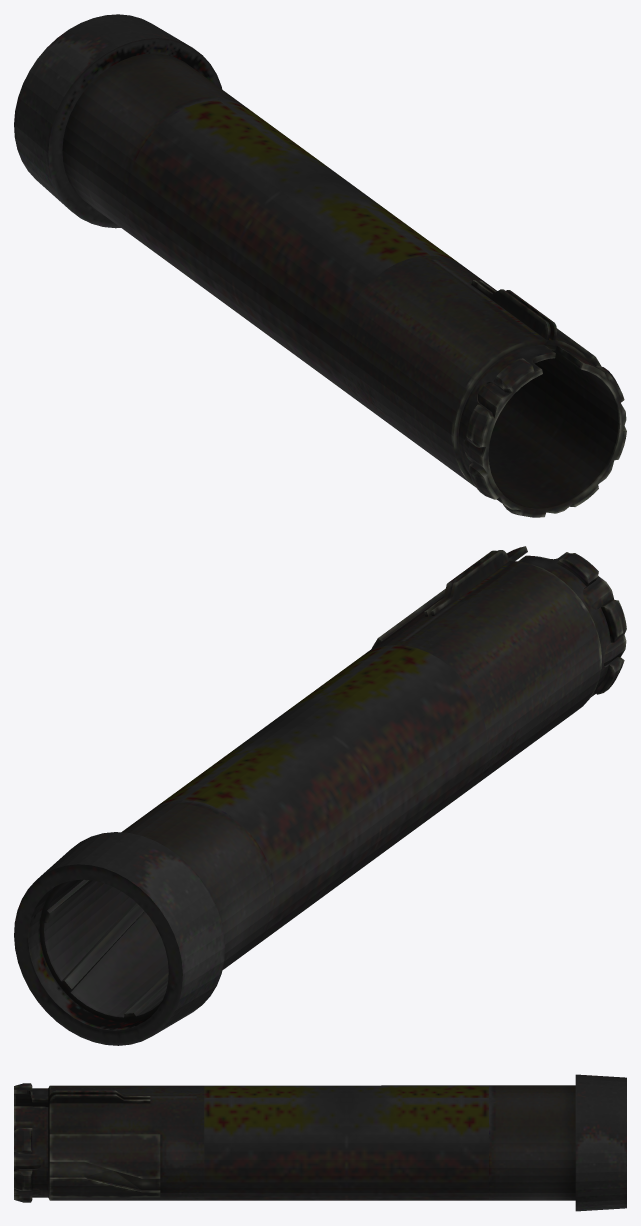
3 views of the same model, one above another, from view 1: azimuth 30°, elevation 25°; view 2: azimuth 150°, elevation 25°; view 3: azimuth 270°, elevation 25° (orthographic). The views are drawn at different scales.
Parts seen in each view (by area): view 1: TW_5e81ebcd8e146c7080625e15_PZ_Import; view 2: TW_5e81ebcd8e146c7080625e15_PZ_Import; view 3: TW_5e81ebcd8e146c7080625e15_PZ_Import.
Boxes of the visible parts, box(x1,y1,x2,y2) form: TW_5e81ebcd8e146c7080625e15_PZ_Import: box(14, 14, 626, 517); TW_5e81ebcd8e146c7080625e15_PZ_Import: box(14, 546, 626, 1045); TW_5e81ebcd8e146c7080625e15_PZ_Import: box(14, 1074, 626, 1211).
Bounding box in the file's own units: 0.0311 × 0.1388 × 0.031.
Materials: 1 (1 with a texture image).
